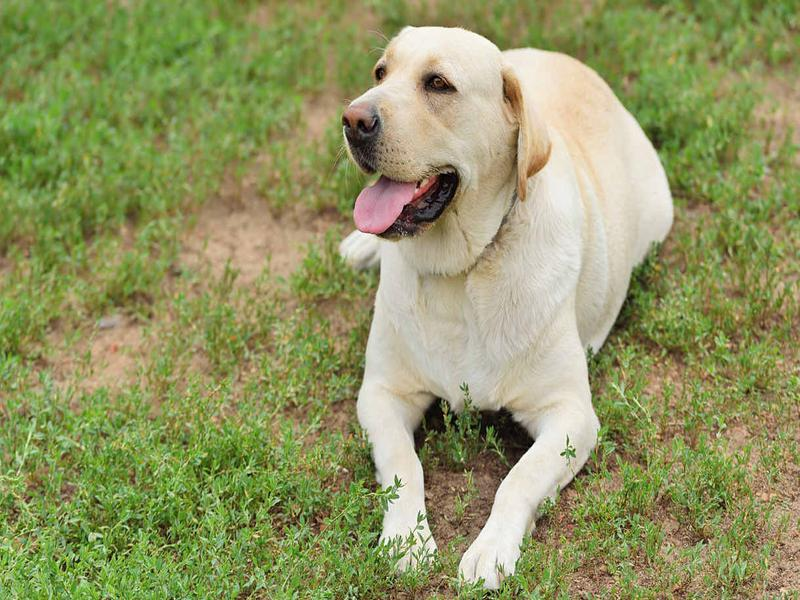dog_down: (338, 23, 682, 600)
